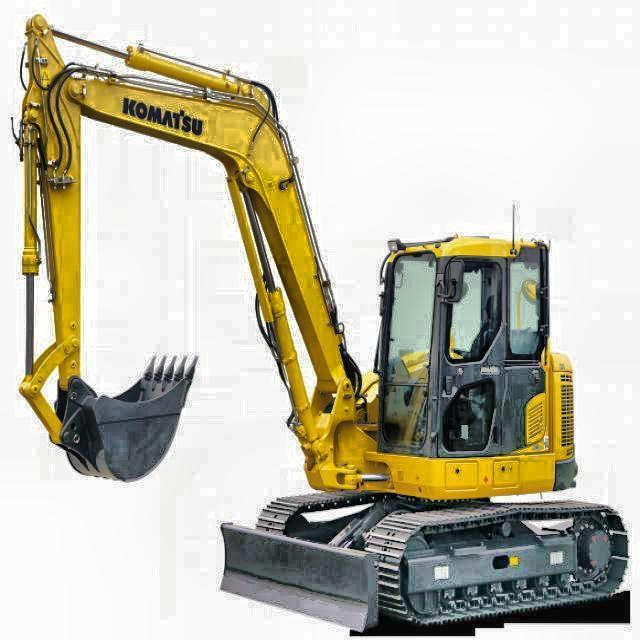excavator: (20, 13, 632, 632)
